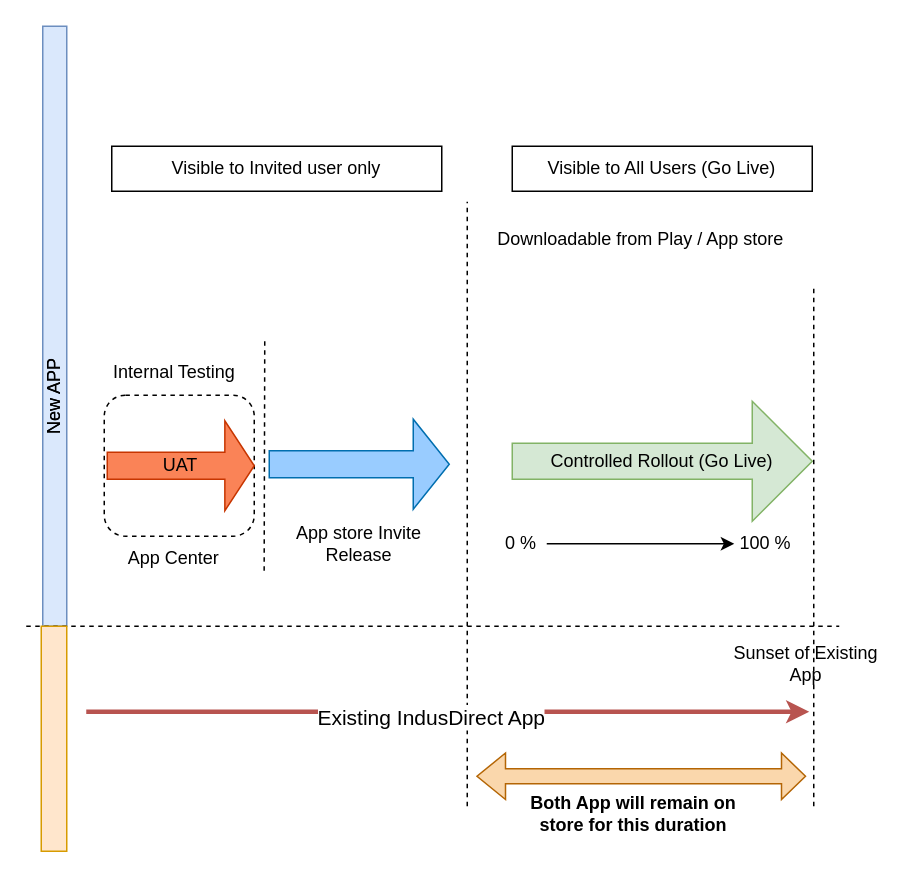
Image size: 923x878. Some labels were removed from this diagram. The box of each missing label's shape, as (x1, y1, x2, y2) in pixels:
CUG: (268, 418, 449, 509)
Existing App: (40, 625, 67, 851)
